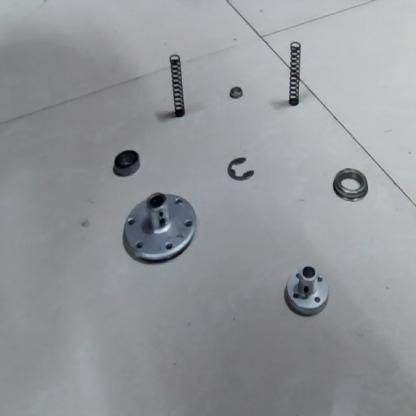FOD: (121, 190, 199, 266), (282, 258, 332, 319), (330, 165, 371, 202), (285, 39, 307, 107), (168, 50, 188, 122), (112, 146, 142, 178), (224, 154, 256, 182), (227, 84, 244, 101)
